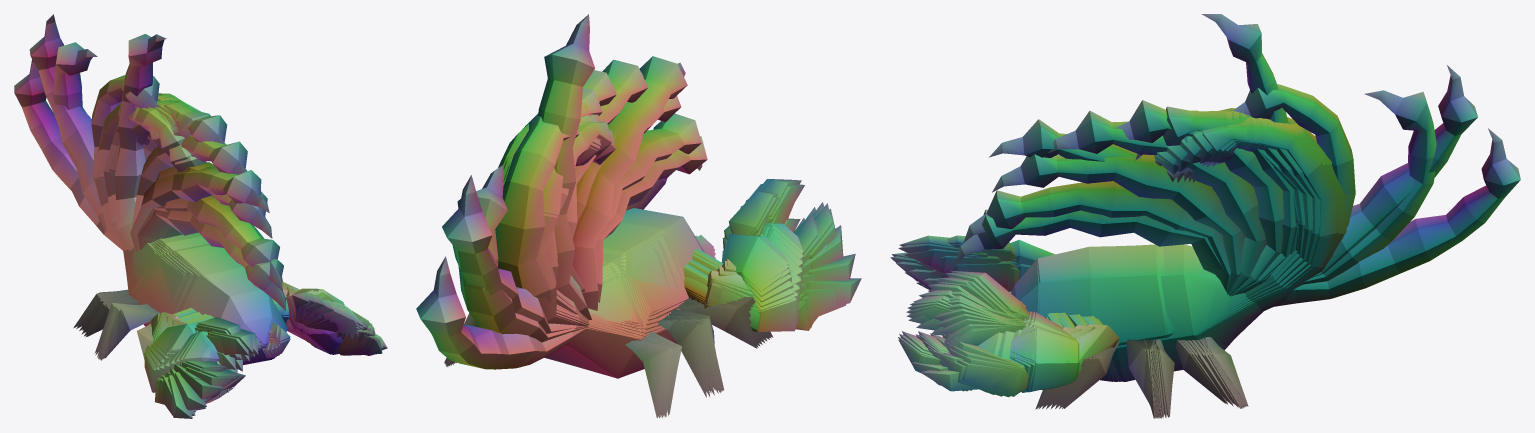
Rendered from Idle_Fight_meshes.fbx.
3 renders of one model, left to right at view 1: azimuth 30°, elevation 25°; view 2: azimuth 150°, elevation 25°; view 3: azimuth 270°, elevation 25°, orthographic. The views are drawn at different scales.
Parts seen in each view (by area): view 1: Idle_Fight_014, Idle_Fight_015, Idle_Fight_012, Idle_Fight_013, Idle_Fight_010, Idle_Fight_011, Idle_Fight_017, Idle_Fight_016, Idle_Fight_009, Idle_Fight_019, Idle_Fight_018, Idle_Fight_007 (+17 smaller); view 2: Idle_Fight_010, Idle_Fight_013, Idle_Fight_008, Idle_Fight_012, Idle_Fight_009, Idle_Fight_015, Idle_Fight_014, Idle_Fight_011, Idle_Fight_017, Idle_Fight_016, Idle_Fight_031, Idle_Fight_007 (+19 smaller); view 3: Idle_Fight_016, Idle_Fight_015, Idle_Fight_010, Idle_Fight_000, Idle_Fight_014, Idle_Fight_011, Idle_Fight_017, Idle_Fight_009, Idle_Fight_018, Idle_Fight_008, Idle_Fight_028, Idle_Fight_012 (+19 smaller).
Part boxes in pixels (x1,y1,x2,y2): Idle_Fight_014: (105,209,376,389); Idle_Fight_015: (104,195,377,387); Idle_Fight_012: (82,34,362,356); Idle_Fight_013: (103,167,358,390); Idle_Fight_010: (14,59,345,371); Idle_Fight_011: (29,14,350,361); Idle_Fight_017: (98,135,381,399); Idle_Fight_016: (108,162,382,386); Idle_Fight_009: (53,42,342,372); Idle_Fight_019: (85,100,374,418); Idle_Fight_018: (87,109,377,410); Idle_Fight_007: (76,108,309,403); Idle_Fight_010: (416,237,729,416); Idle_Fight_013: (572,56,815,348); Idle_Fight_008: (444,113,736,416); Idle_Fight_012: (538,14,804,385); Idle_Fight_009: (457,165,736,416); Idle_Fight_015: (593,113,832,346); Idle_Fight_014: (596,136,824,346); Idle_Fight_011: (442,175,739,391); Idle_Fight_017: (566,59,843,386); Idle_Fight_016: (576,96,836,390); Idle_Fight_031: (503,137,817,324); Idle_Fight_007: (444,121,734,416); Idle_Fight_016: (898,154,1244,409); Idle_Fight_015: (892,181,1231,408); Idle_Fight_010: (935,128,1520,418); Idle_Fight_000: (926,118,1339,418); Idle_Fight_014: (890,209,1225,409); Idle_Fight_011: (923,65,1477,418); Idle_Fight_017: (898,111,1266,408); Idle_Fight_009: (1011,90,1436,408); Idle_Fight_018: (899,100,1283,416); Idle_Fight_008: (943,84,1355,417); Idle_Fight_028: (947,123,1325,395); Idle_Fight_012: (909,14,1288,406).
Size of the model in its own units: 245 by 319 by 528.
